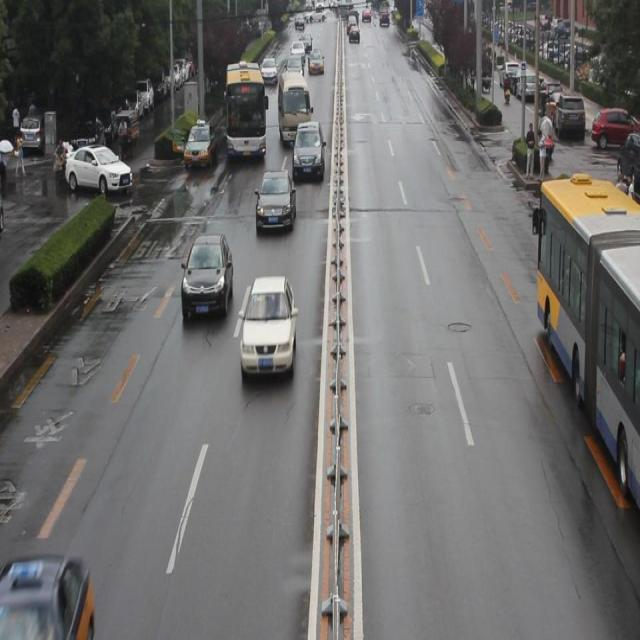car: (1, 557, 90, 627), (242, 276, 295, 378), (182, 232, 233, 321), (66, 144, 134, 200), (255, 170, 294, 233), (292, 124, 324, 181), (183, 131, 216, 181)
truck: (278, 78, 313, 152)
van: (531, 183, 640, 519), (226, 60, 265, 162)
